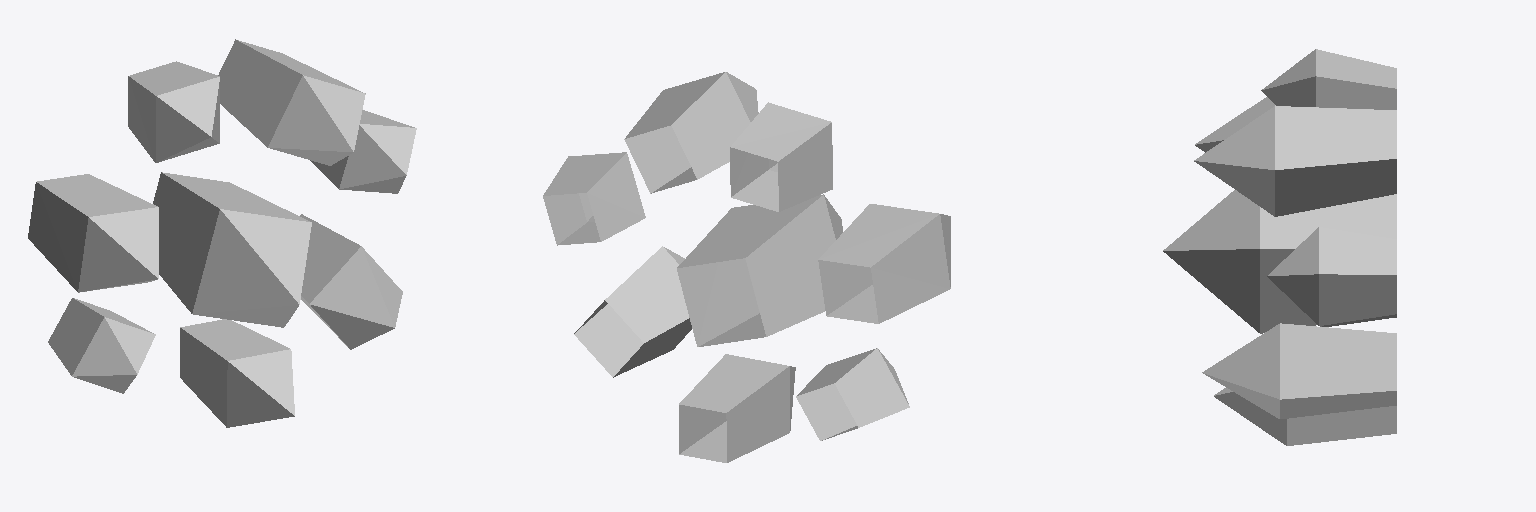
File: crystal.obj
The picture shows the model from 3 angles: view 1: azimuth 30°, elevation 25°; view 2: azimuth 150°, elevation 25°; view 3: azimuth 270°, elevation 25°; orthographic projection.
Parts seen in each view (by area): view 1: s7, s6, s2, s5, s4, s3, s1, s0; view 2: s7, s6, s2, s5, s3, s4, s0, s1; view 3: s2, s7, s4, s0, s3, s5, s6.
Boxes of the visible parts, <box> form: s7: <box>153,172,311,327</box>; s6: <box>28,174,158,292</box>; s2: <box>218,39,365,165</box>; s5: <box>180,319,294,427</box>; s4: <box>300,214,402,349</box>; s3: <box>128,61,219,162</box>; s1: <box>48,298,155,393</box>; s0: <box>310,110,416,193</box>; s7: <box>677,194,842,346</box>; s6: <box>818,204,950,323</box>; s2: <box>624,72,758,193</box>; s5: <box>679,354,795,462</box>; s3: <box>730,102,832,211</box>; s4: <box>574,246,691,377</box>; s0: <box>543,152,645,245</box>; s1: <box>796,348,909,440</box>; s2: <box>1194,106,1396,216</box>; s7: <box>1163,190,1396,333</box>; s4: <box>1202,323,1396,418</box>; s0: <box>1267,227,1396,325</box>; s3: <box>1261,49,1396,109</box>; s5: <box>1214,388,1396,445</box>; s6: <box>1195,97,1275,152</box>.
Bounding box in the file's own units: 0.8694 × 0.7911 × 0.4899.